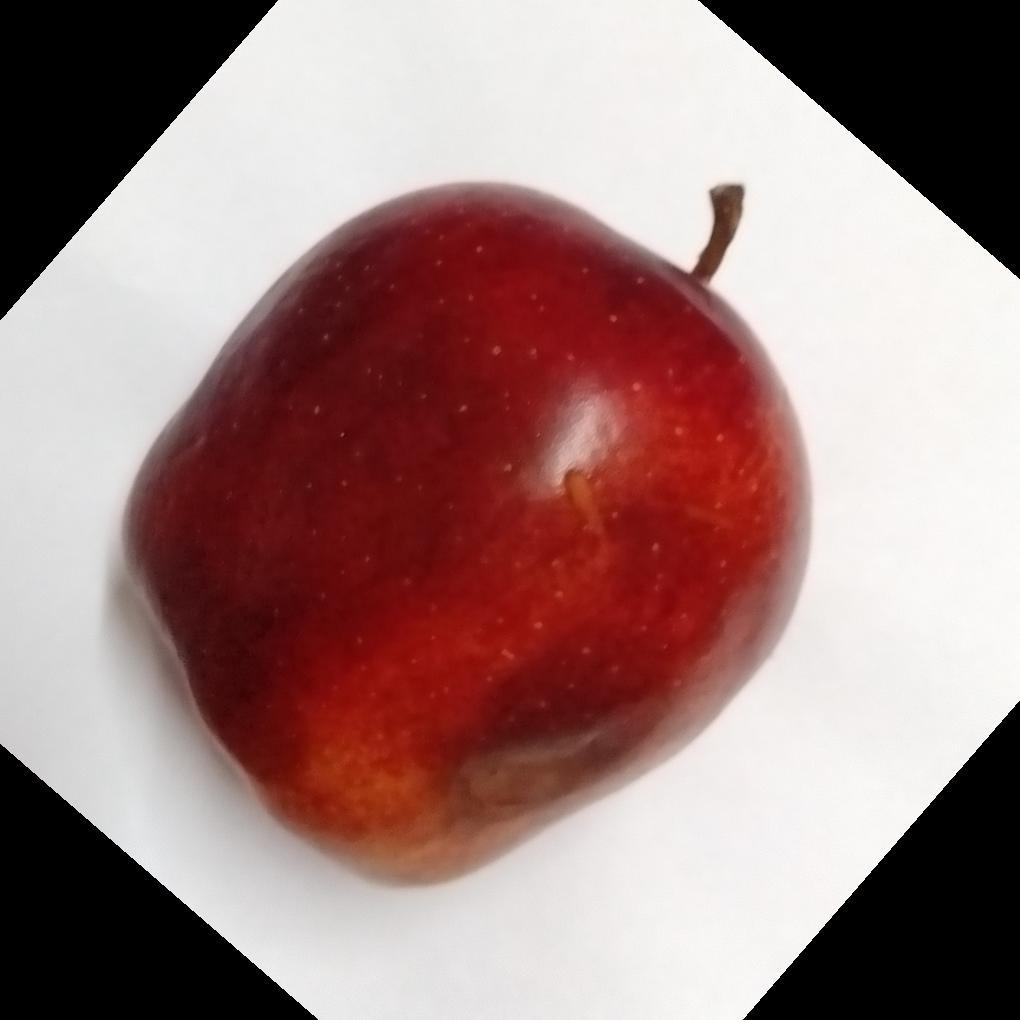FreshOrange: (115, 183, 814, 895)
